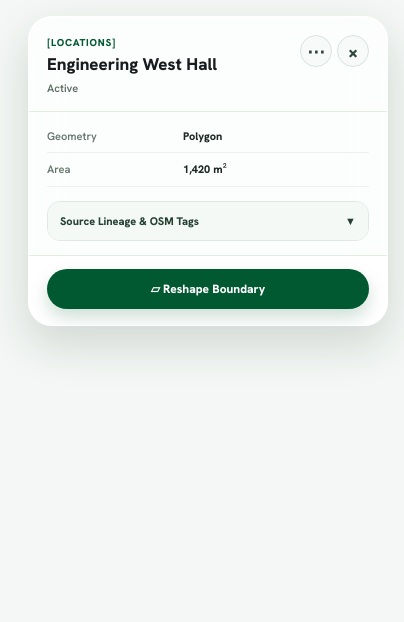
Test: InspectorCardHUD › reveals complete OSM source lineage on demand
Expected: the text "way/74920194" is not shown
Click the button "Source Lineage & OSM Tags ▼".
click(129, 221)  # box [48,202,368,240]
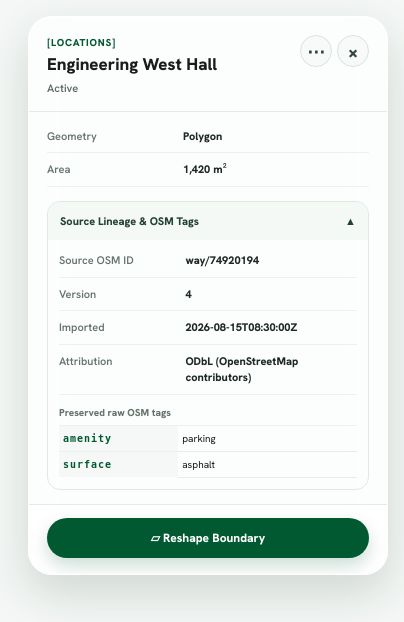
Expected: the button "Source Lineage & OSM Tags ▲" is expanded, [48,202,368,240]
Expected: the text "way/74920194" is shown, [185,253,259,267]
Expected: the text "4" is shown, [185,287,192,301]
